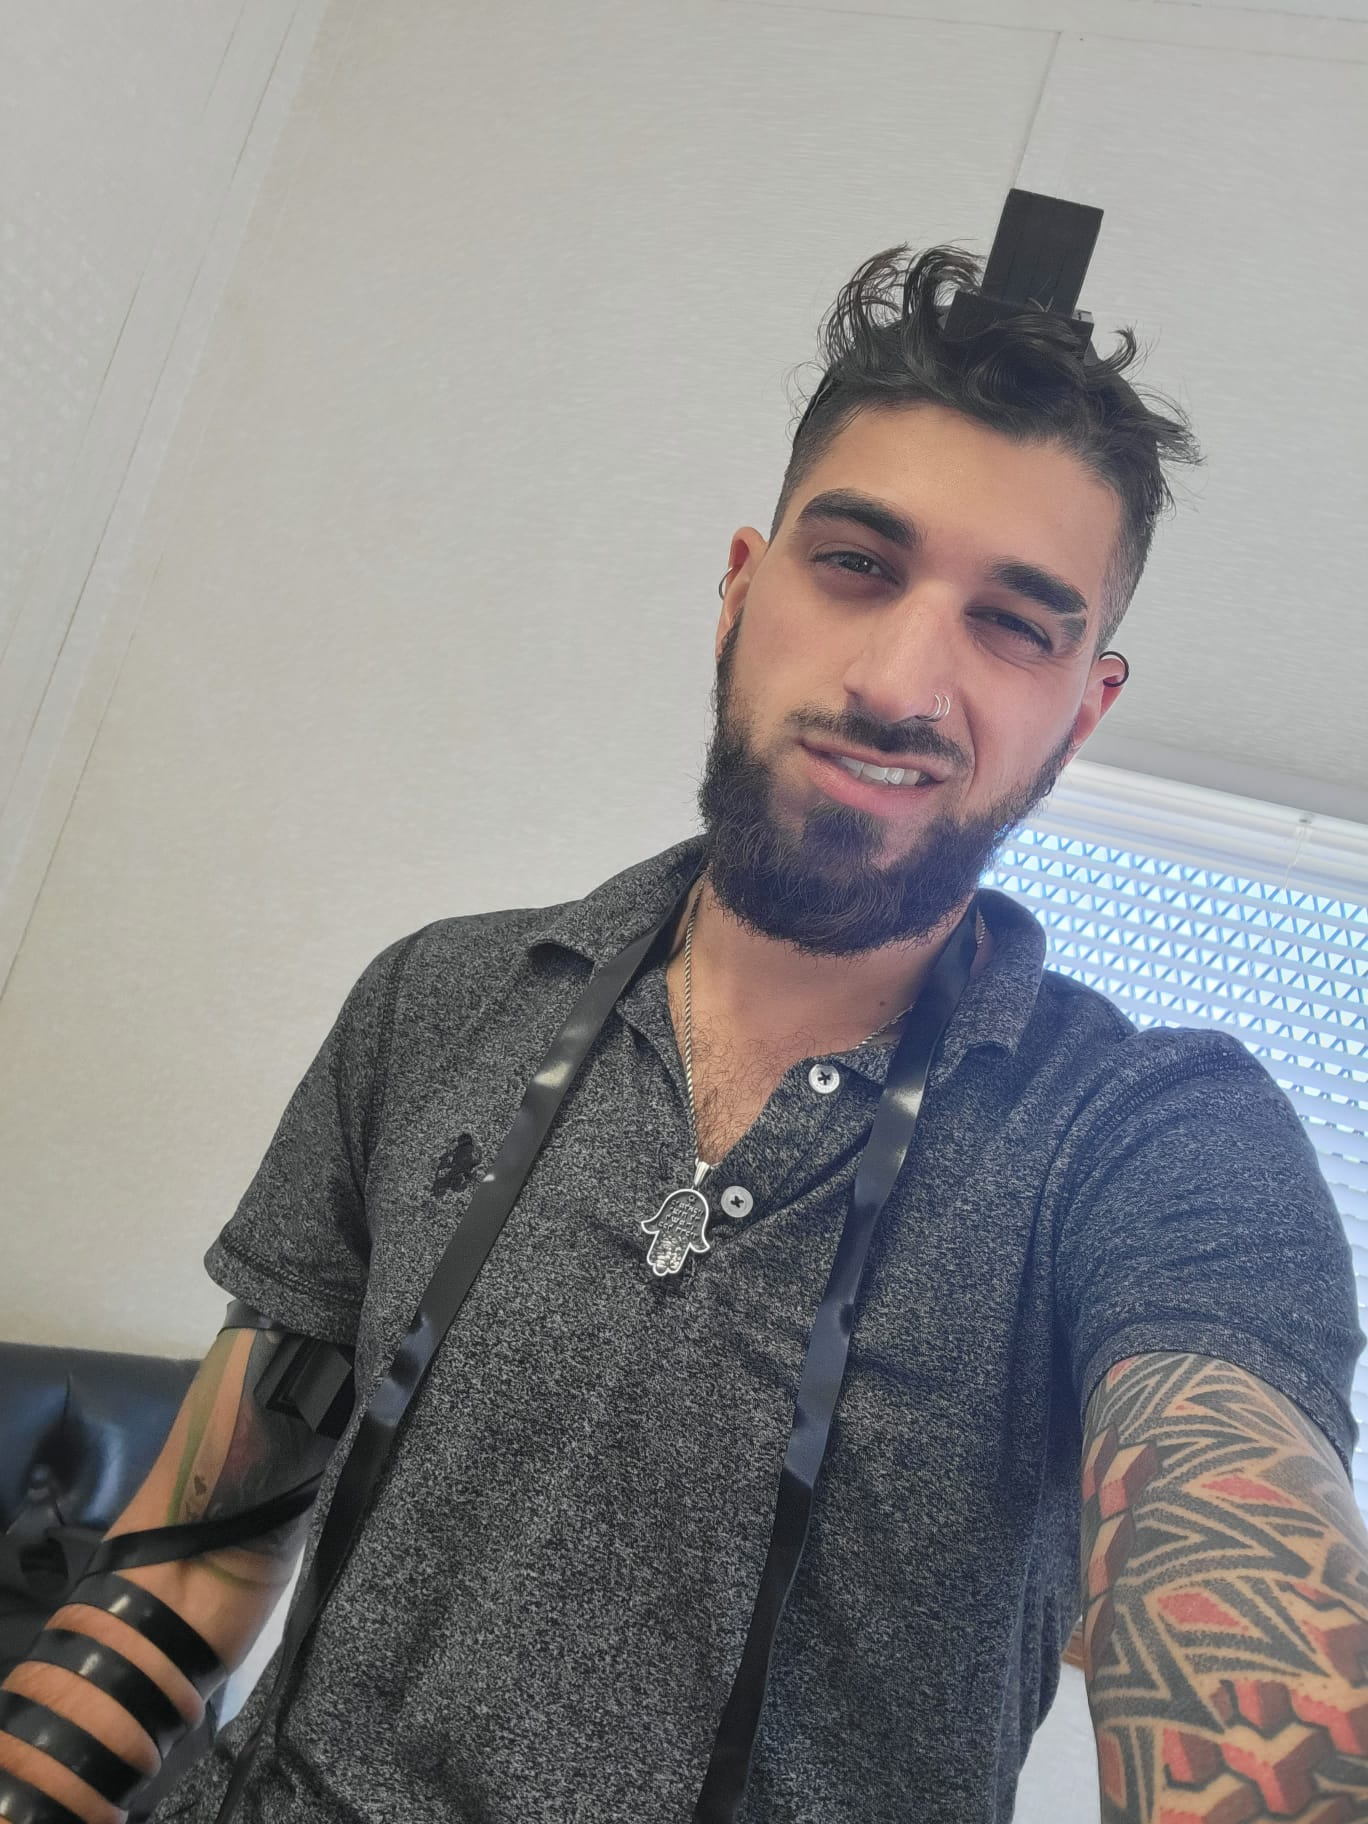tefillin: (935, 188, 1105, 365)
